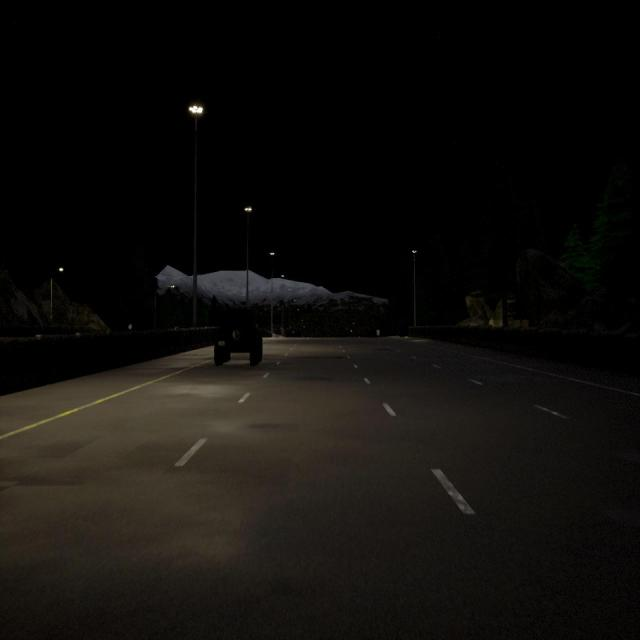Traffic_Signs: (128, 324, 132, 329)
Vehicle: (214, 308, 262, 366)
